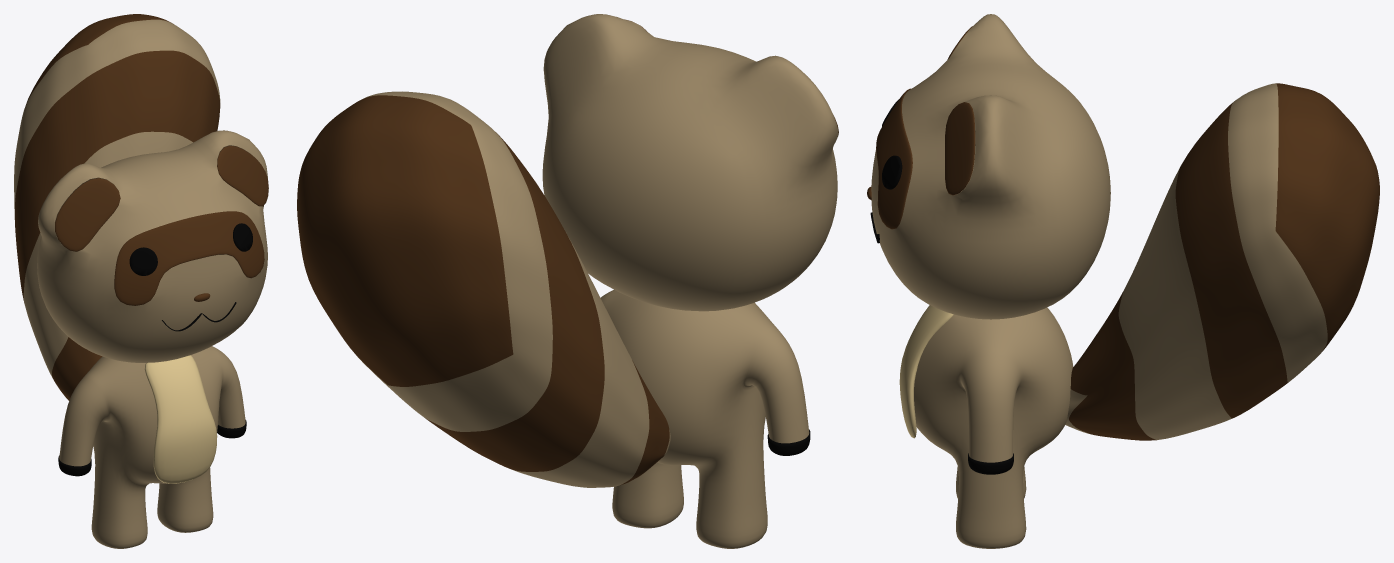
Rendered from sousou.fbx.
3 views of the same model, side by side, from view 1: azimuth 30°, elevation 25°; view 2: azimuth 150°, elevation 25°; view 3: azimuth 270°, elevation 25° (orthographic). The views are drawn at different scales.
Visible parts, largest first — view 1: Queue, Tete, Corps, Fourrure ventre, Fourrure yeux, Fourrure oreille, Yeux, Gants; view 2: Queue, Tete, Corps; view 3: Queue, Tete, Corps, Fourrure yeux, Fourrure oreille, Fourrure ventre.
Part boxes in pixels (<box>): Queue: <box>14,14,220,400</box>; Tete: <box>37,130,267,362</box>; Corps: <box>59,346,245,548</box>; Fourrure ventre: <box>144,355,217,483</box>; Fourrure yeux: <box>114,211,264,305</box>; Fourrure oreille: <box>55,145,268,251</box>; Yeux: <box>129,223,252,275</box>; Gants: <box>58,419,246,476</box>; Queue: <box>297,91,670,487</box>; Tete: <box>542,14,838,311</box>; Corps: <box>600,289,809,548</box>; Queue: <box>1065,83,1379,440</box>; Tete: <box>871,14,1110,319</box>; Corps: <box>914,307,1073,548</box>; Fourrure yeux: <box>876,88,912,229</box>; Fourrure oreille: <box>945,26,975,195</box>; Fourrure ventre: <box>899,305,953,438</box>.
Size of the model in its own units: 272 by 355 by 343.
